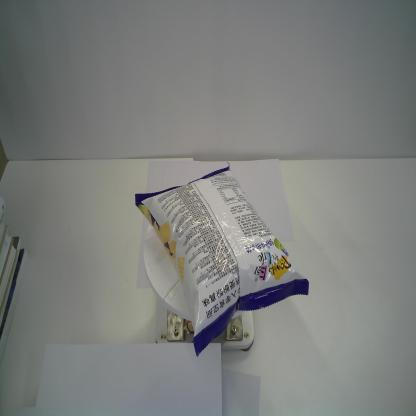Puffed Food: (135, 161, 309, 358)
